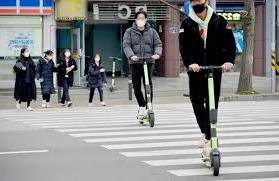nonhelmet: (177, 1, 236, 177), (123, 10, 164, 131)
